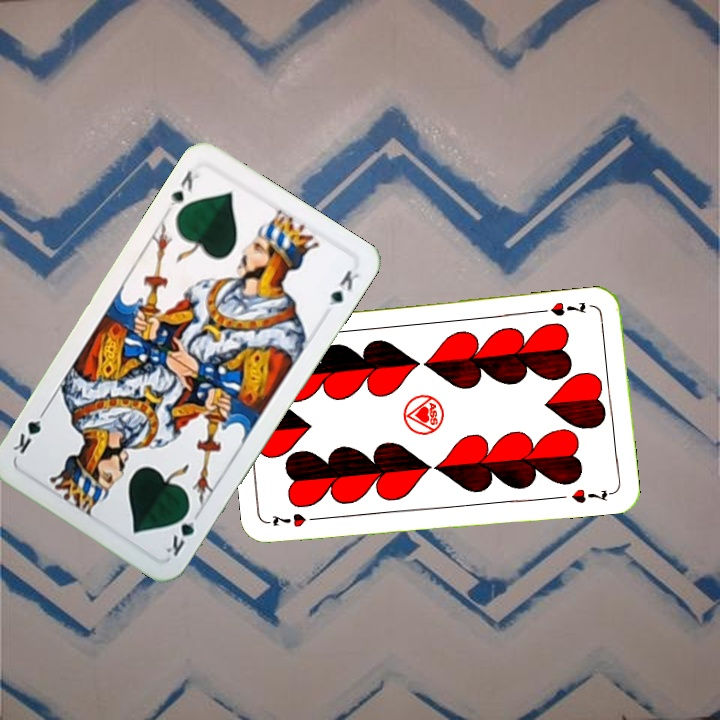GK: (162, 503, 203, 559), (166, 166, 202, 210)
H7: (268, 509, 325, 530), (547, 298, 588, 319)
